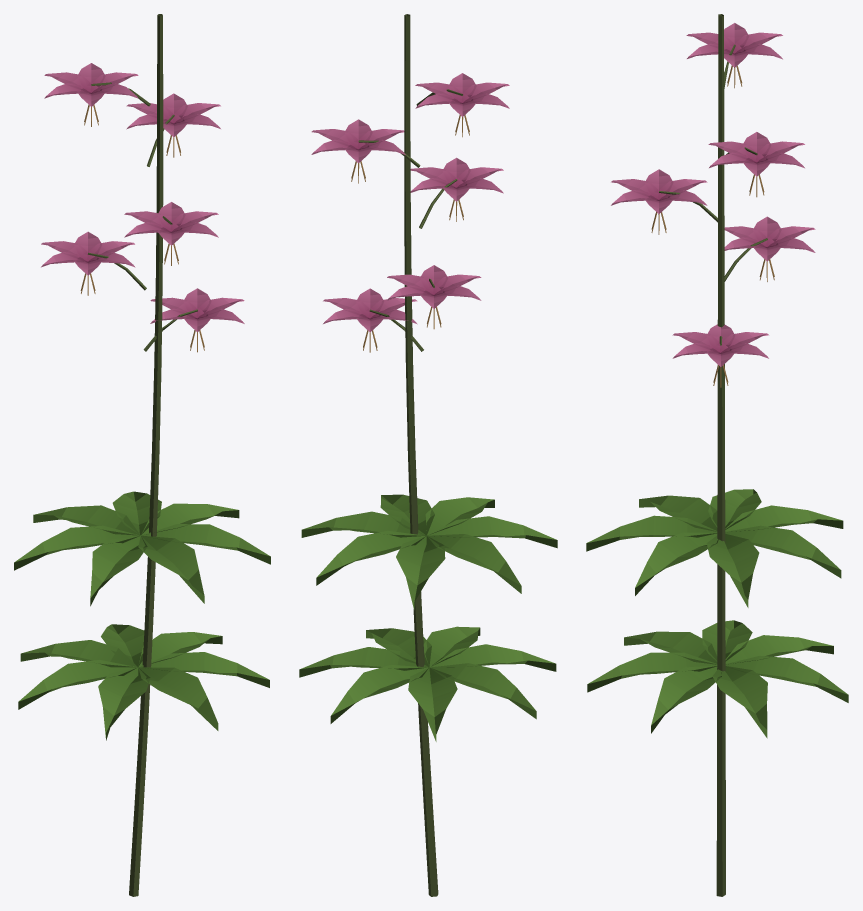
The model's file is lilia.glb.
The picture shows the model from 3 angles, left to right: view 1: azimuth 30°, elevation 25°; view 2: azimuth 150°, elevation 25°; view 3: azimuth 270°, elevation 25°; orthographic projection. The views are drawn at different scales.
Parts seen in each view (by area): view 1: lilia; view 2: lilia; view 3: lilia.
Part boxes in pixels (x1,y1,x2,y2): lilia: (14,14,270,896); lilia: (299,14,557,896); lilia: (586,14,848,896).
Bounding box in the file's own units: 0.2597 × 0.9503 × 0.2533.
